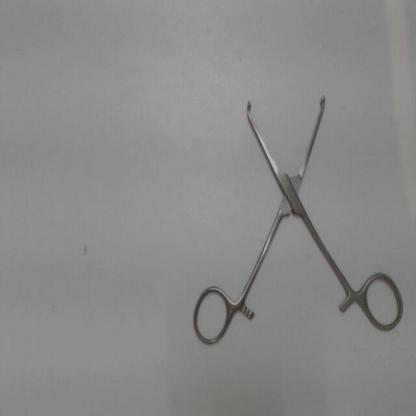Allis Tissue Forceps: (187, 81, 409, 354)
